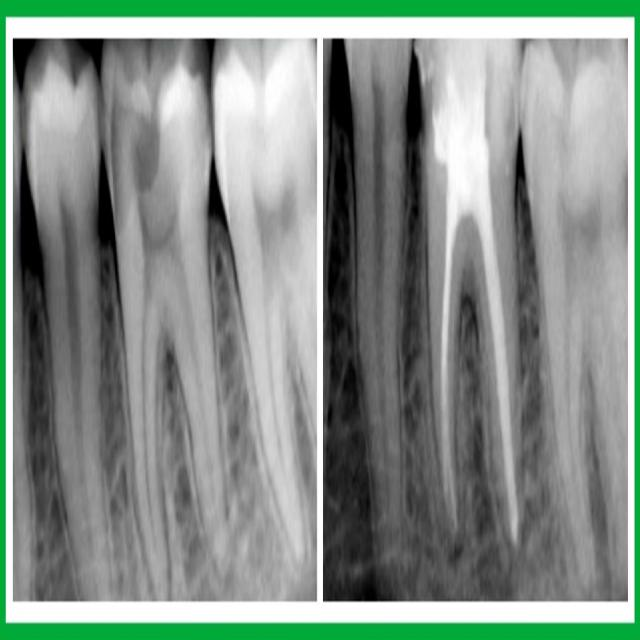Caries: (101, 42, 217, 595)
